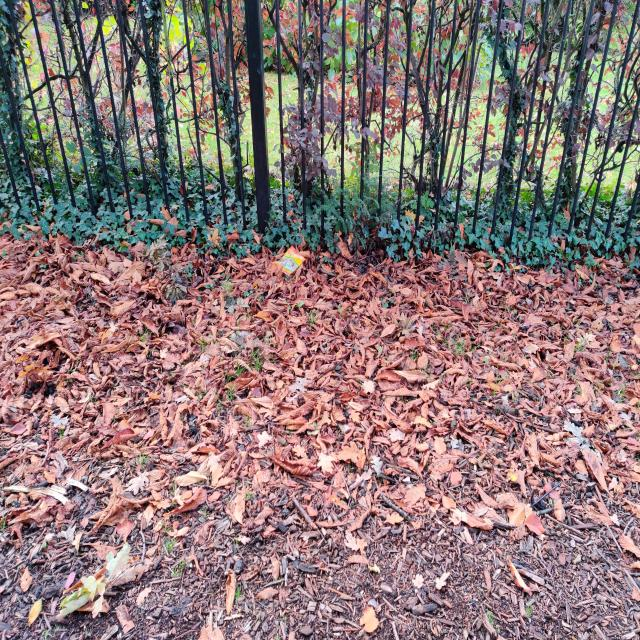litter: (272, 246, 307, 276), (529, 481, 563, 508)
